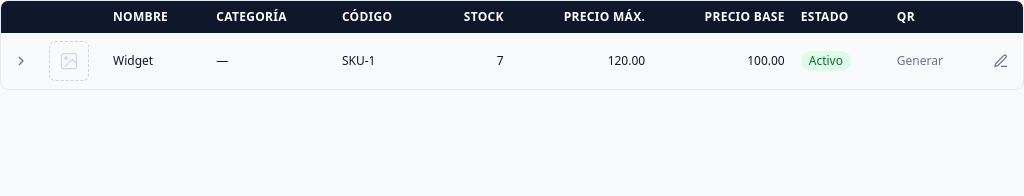
ProductsCatalogTable › tells a caller without inventory.view they need the permission, and never fetches balances
The image size is (1024, 196).
Click the button named "Expandir Widget" at (21, 61), box [9,49,33,73]
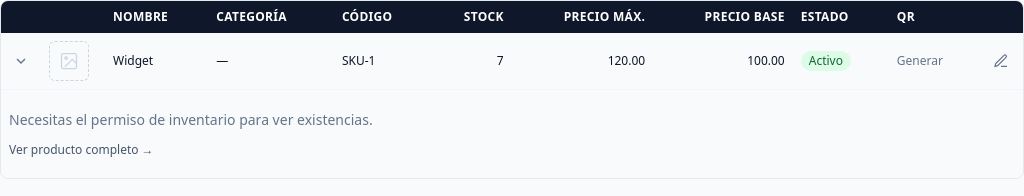
Expected: the text "Necesitas el permiso de inventario para ver existencias." is shown, [9,110,373,129]
